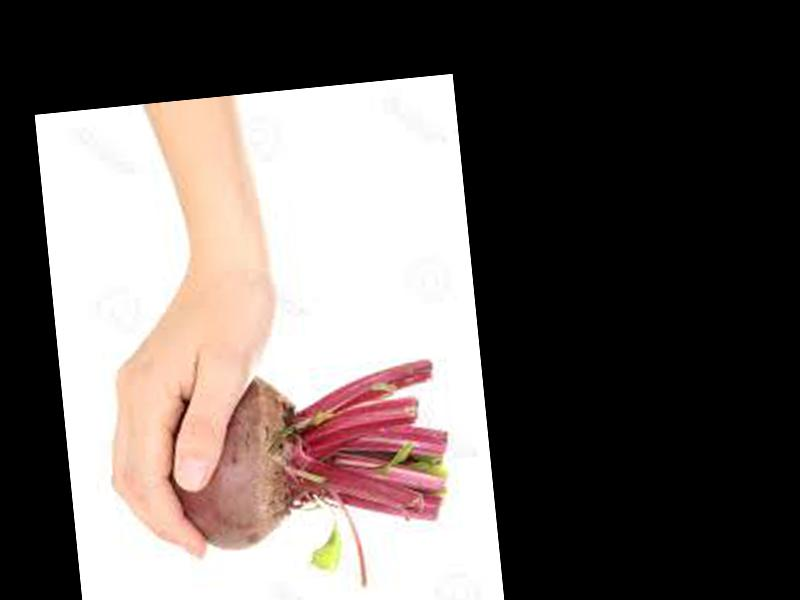Beet: (160, 360, 460, 600)
